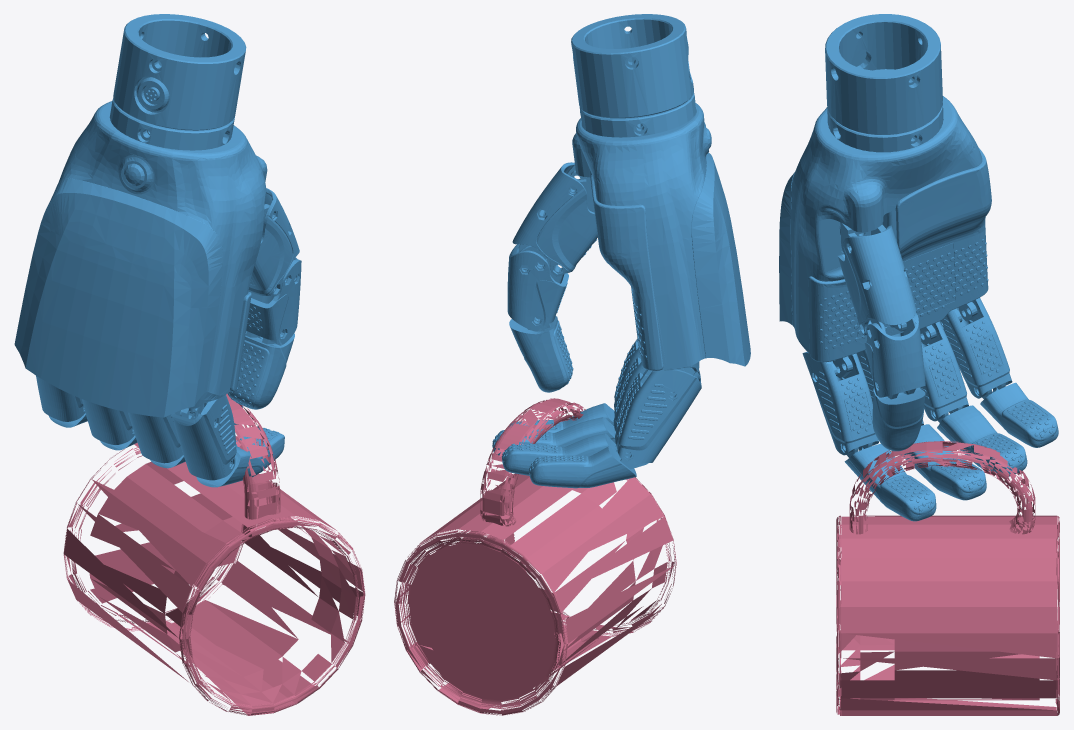
3 renders of one model, left to right at view 1: azimuth 30°, elevation 25°; view 2: azimuth 150°, elevation 25°; view 3: azimuth 270°, elevation 25°, orthographic. The views are drawn at different scales.
Parts seen in each view (by area): view 1: 4; view 2: 4; view 3: 4.
Boxes of the visible parts, x1,y1,x2,y2 form: 4: (14,14,365,715); 4: (394,14,750,715); 4: (779,14,1059,715).
Bounding box in the file's own units: 0.1396 × 0.3042 × 0.1209.
